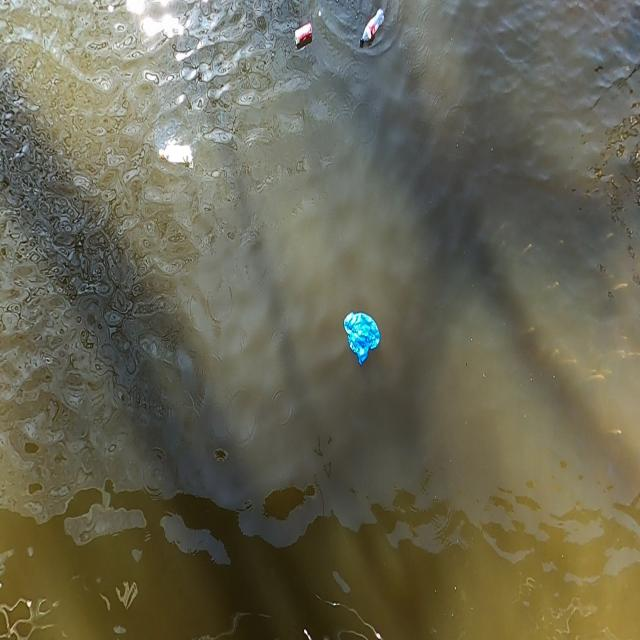Bouteille plastique: (358, 8, 386, 52), (156, 141, 194, 169)
Non plastique: (292, 22, 312, 46)
